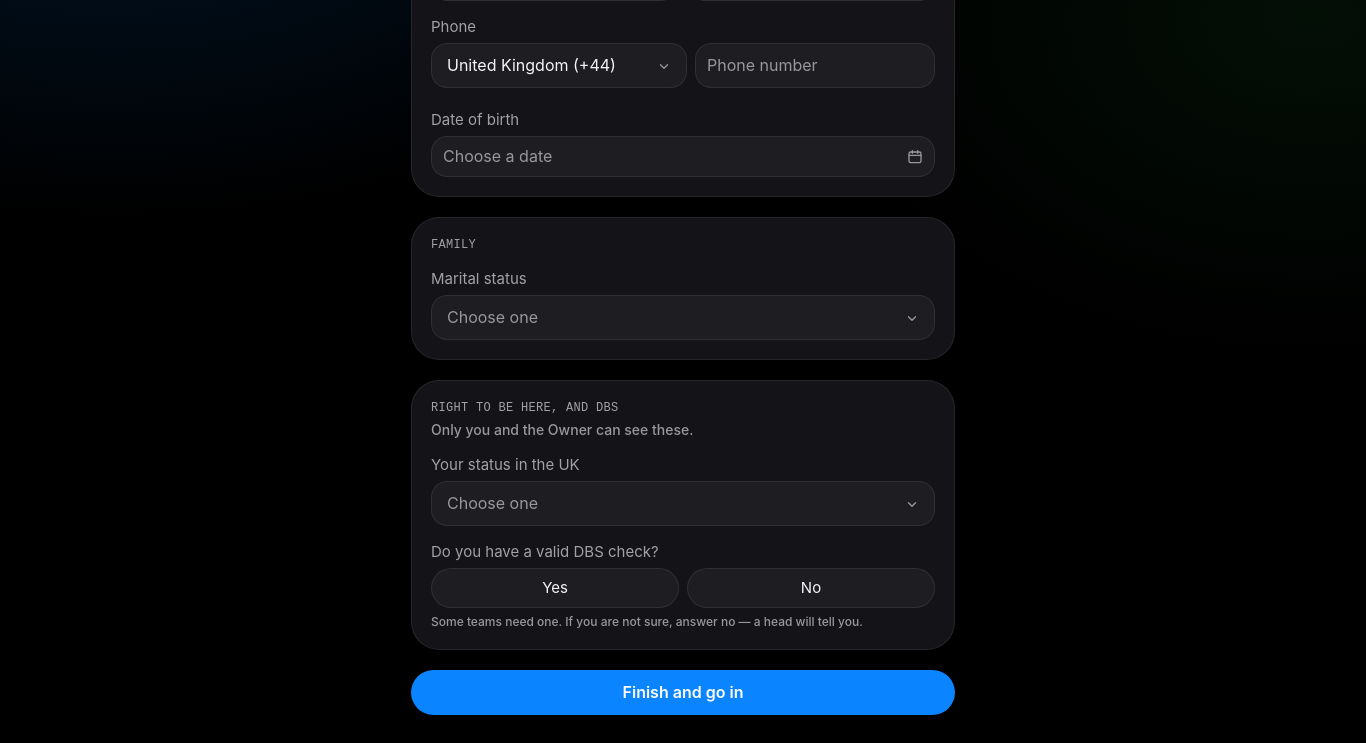
Test: joining › offers the visa note only once a status is chosen
The width and height of the screenshot is (1366, 743).
(page scrolled)
Check: the field labelled "Comment" is not shown
Click the dropdown named "Your status in the UK". click: (492, 503)
box: [431, 481, 935, 526]
(page scrolled)
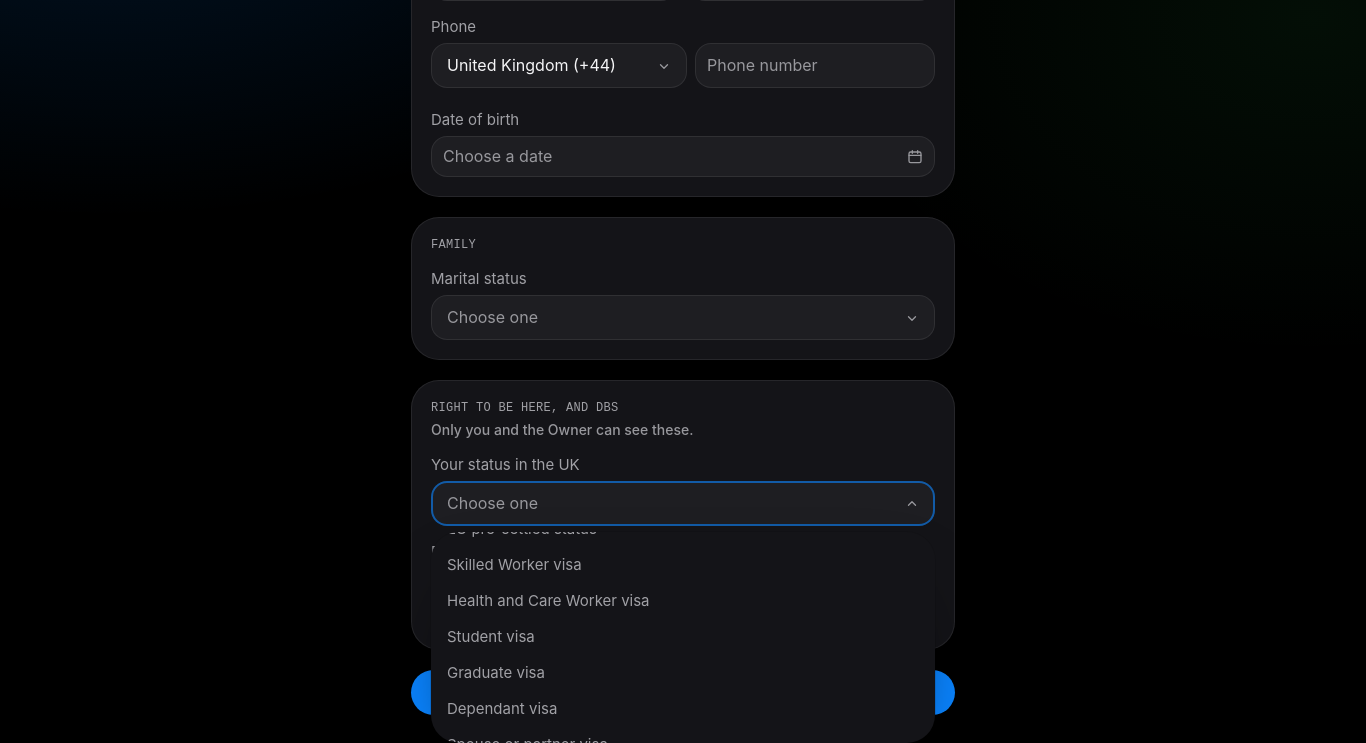
Click the option "Student visa". click: (491, 636)
box: [447, 627, 535, 646]
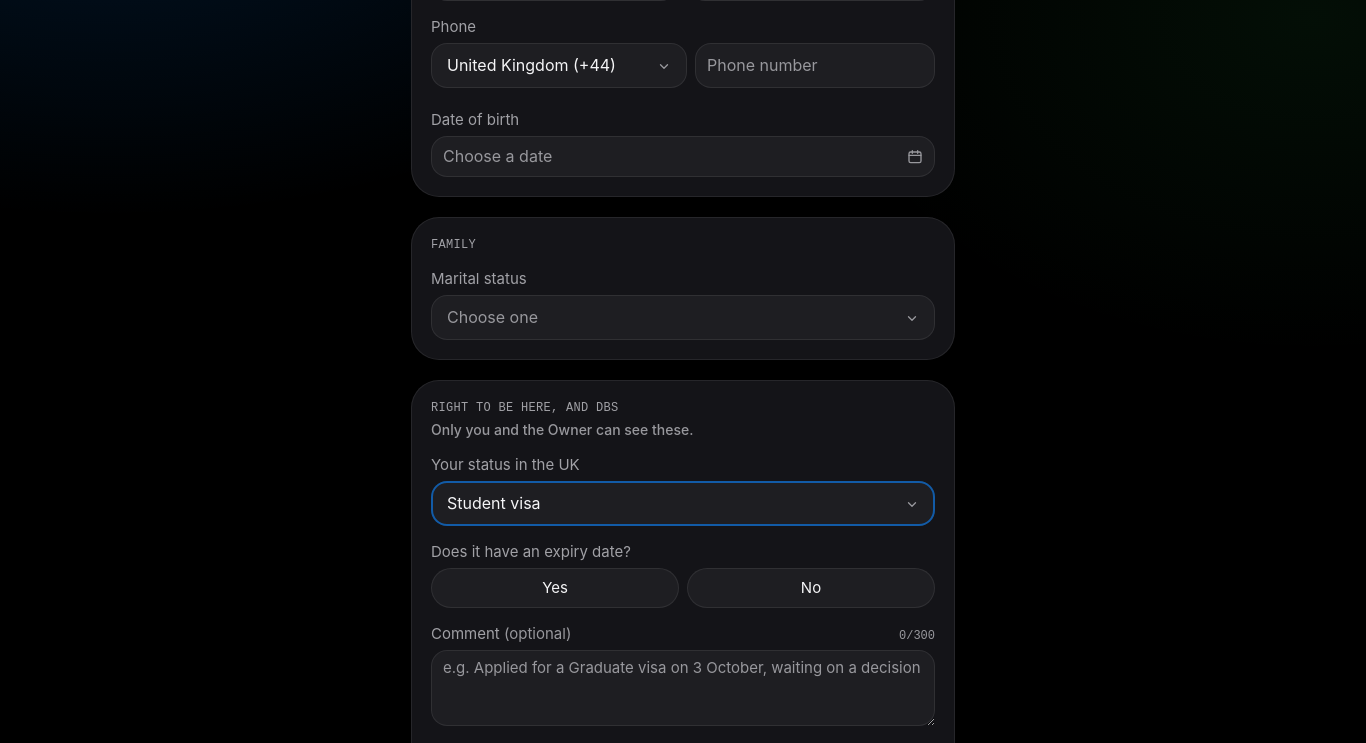
Check: the text box labelled "Comment (optional) 0/300" is shown, box [431, 650, 935, 726]
